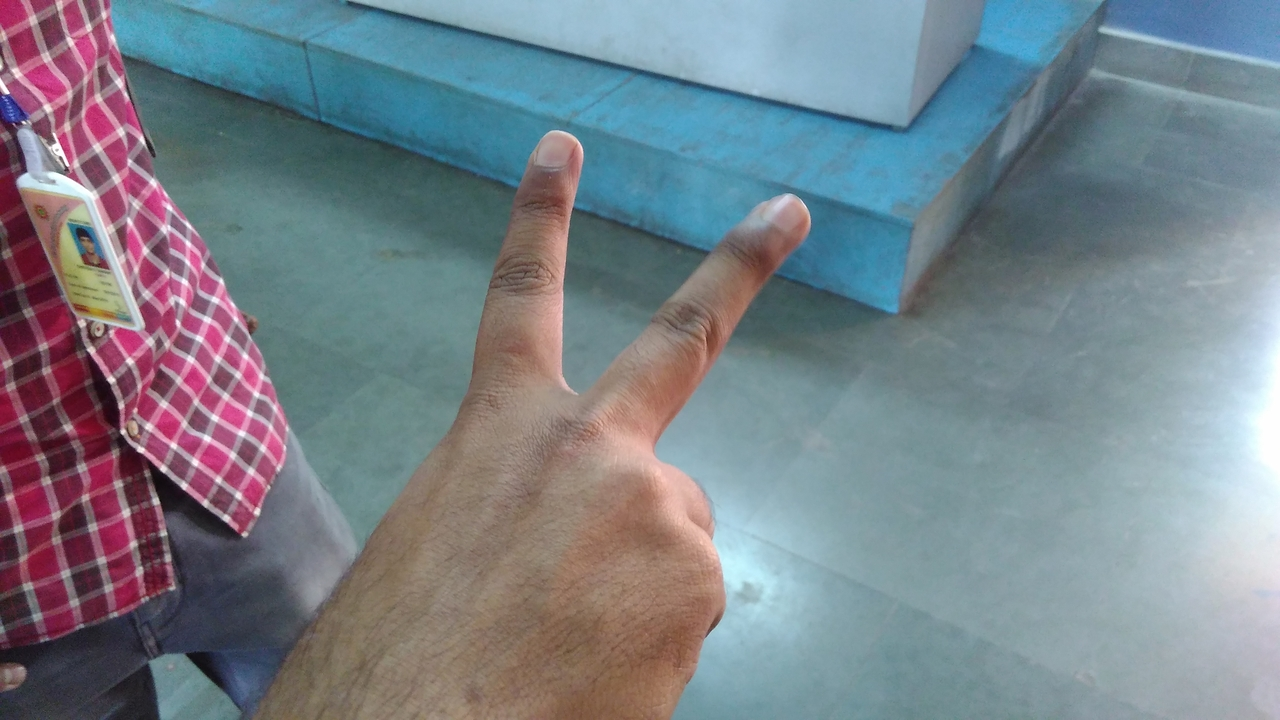fingertip: (744, 184, 826, 246), (518, 124, 588, 184)
